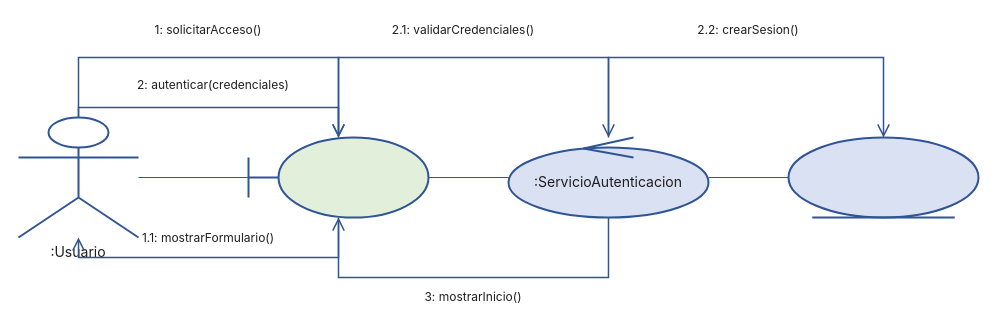
The diagram is 996 pixels wide and 326 high, and some of its shapes have lost their labels. The centre of each missing label's shape, as x and y in pixels:
:PantallaAcceso: the point at 338,177
:RepositorioUsuarios: the point at 883,177
